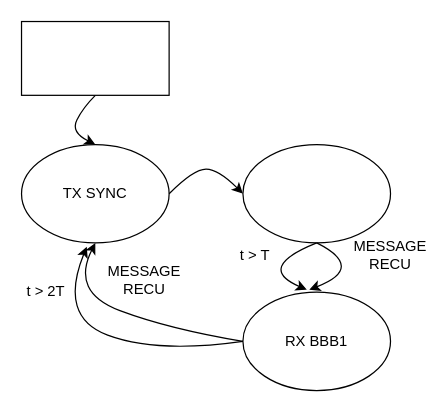
Some shapes in this 448 by 412 pixel diagram are drawn without their labels. Here are the shapes that lost their labels. From the top down, the centre of each, then its label:
At pixel 94 57: "INIT BBB0".
At pixel 316 193: "RX STM".
